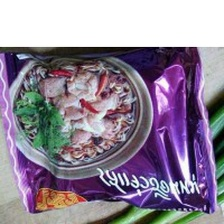snack: (0, 47, 224, 219)
